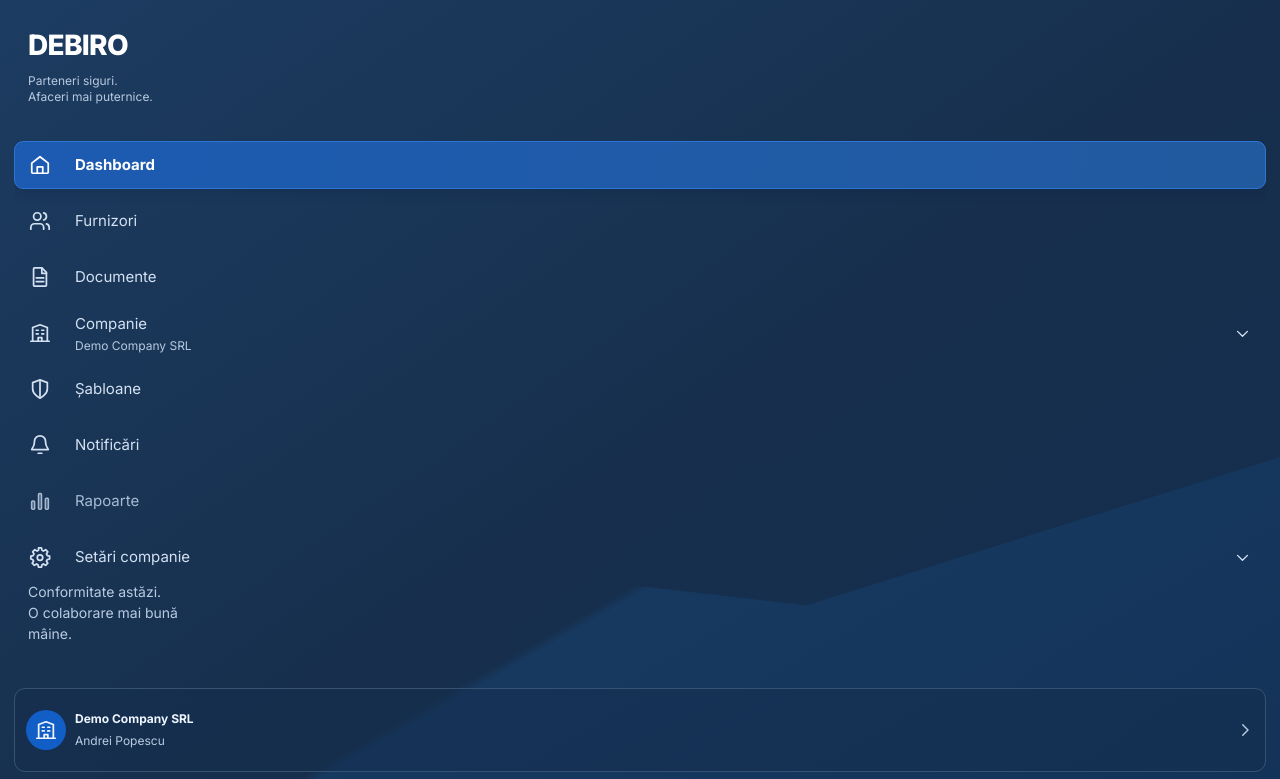
Test: shared sidebar navigation availability › describes the Company parent while expanded or collapsed, without duplicating its identity in children in ro
The image size is (1280, 779).
Expected: the text titled "Demo Company SRL" below "Documente" is shown, x1=75 y1=338 x2=192 y2=353
What coordinates should you click on to do the following:
click the button "Companie Demo Company SRL"
I would click on:
 (111, 324)
Its box is x1=14 y1=309 x2=1266 y2=357.
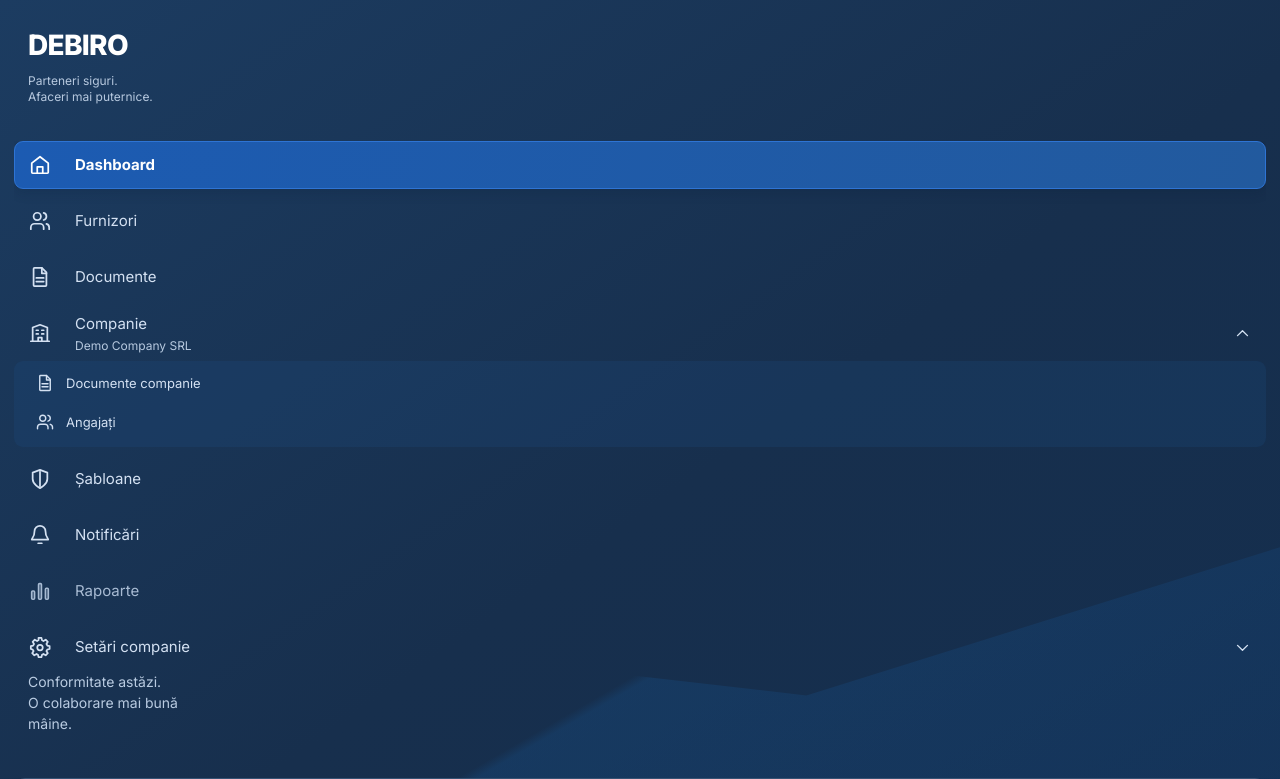
What coordinates should you click on to do the following:
click the button "Companie Demo Company SRL"
I would click on:
 (111, 324)
Its box is x1=14 y1=309 x2=1266 y2=357.
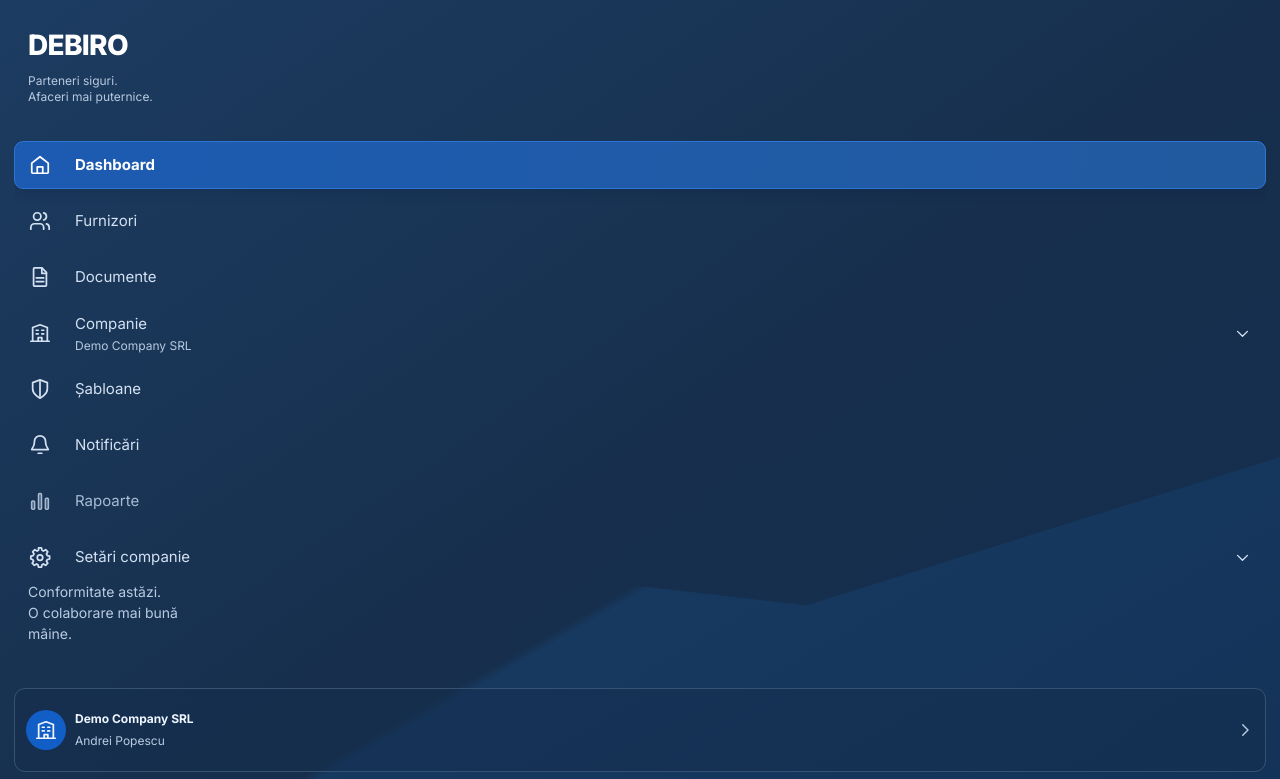
Expected: the text titled "Demo Company SRL" below "Documente" is shown, x1=75 y1=338 x2=192 y2=353
Expected: the button "Companie Demo Company SRL" is collapsed
What coordinates should you click on to do the following:
click the button "Companie Demo Company SRL"
I would click on:
 (111, 324)
Its box is x1=14 y1=309 x2=1266 y2=357.
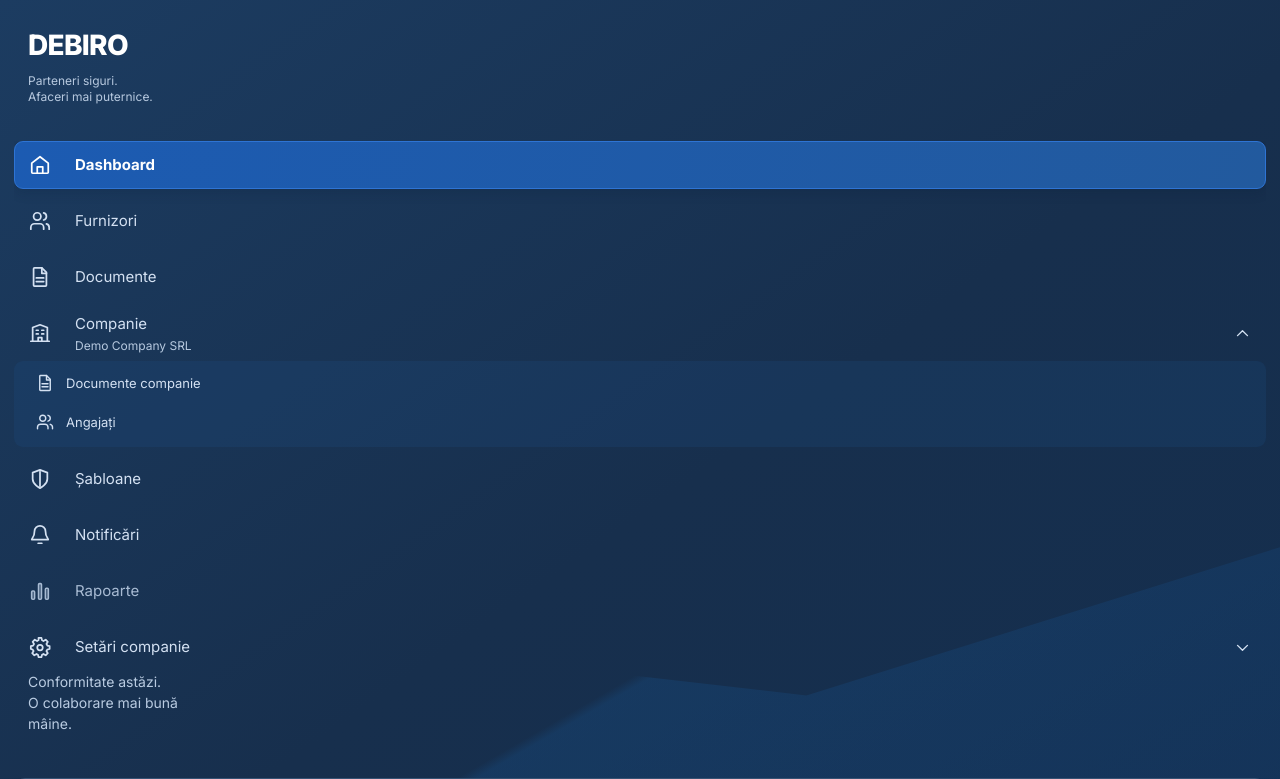
Expected: the button "Companie Demo Company SRL" is expanded, x1=14 y1=309 x2=1266 y2=357
